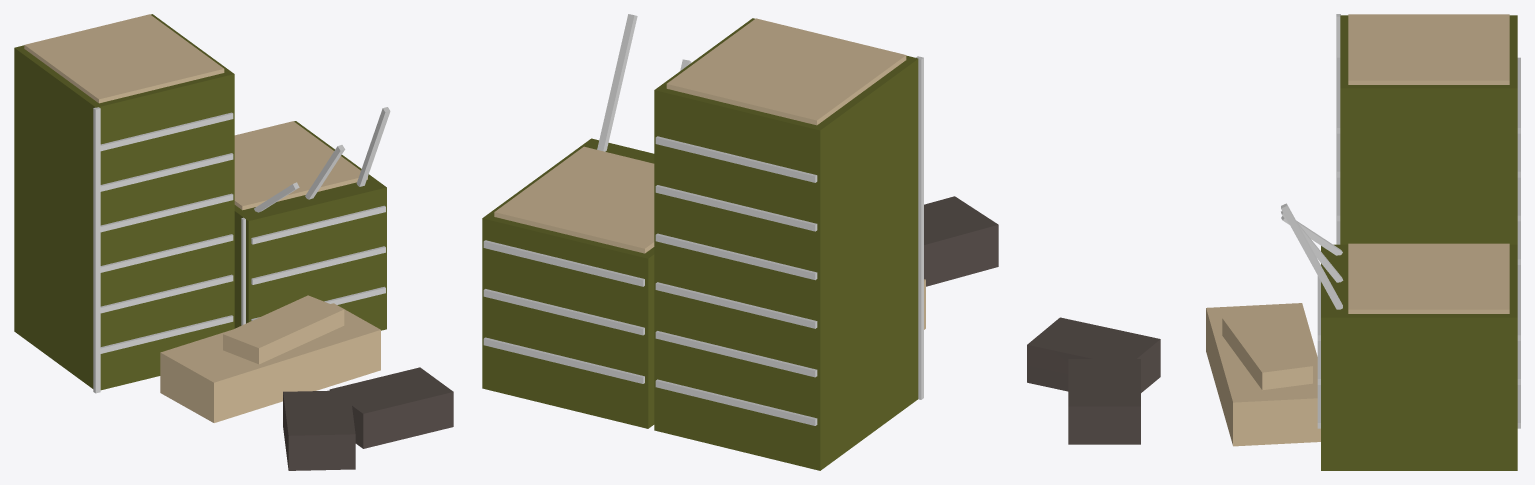
Rendered from SM_HescoCorto2_v1_Geotextil_e1_Danado_LOD0.fbx.
The picture shows the model from 3 angles, left to right: view 1: azimuth 30°, elevation 25°; view 2: azimuth 150°, elevation 25°; view 3: azimuth 270°, elevation 25°; orthographic projection. The views are drawn at different scales.
Visible parts, largest first — view 1: SM_hesco_piezas_v65_LOD0; view 2: SM_hesco_piezas_v65_LOD0; view 3: SM_hesco_piezas_v65_LOD0.
Boxes of the visible parts, x1=… form: SM_hesco_piezas_v65_LOD0: x1=14, y1=14, x2=453, y2=470; SM_hesco_piezas_v65_LOD0: x1=482, y1=14, x2=998, y2=470; SM_hesco_piezas_v65_LOD0: x1=1027, y1=14, x2=1520, y2=470.
Bounding box in the file's own units: 2.2 × 2.13 × 3.06.
